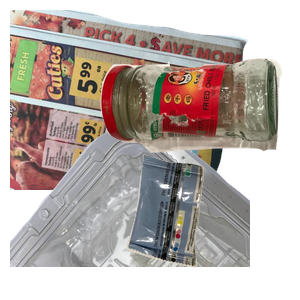glass: (98, 56, 300, 201)
paper: (10, 10, 250, 190)
plastic: (10, 120, 250, 300)
trash: (124, 152, 300, 300)
